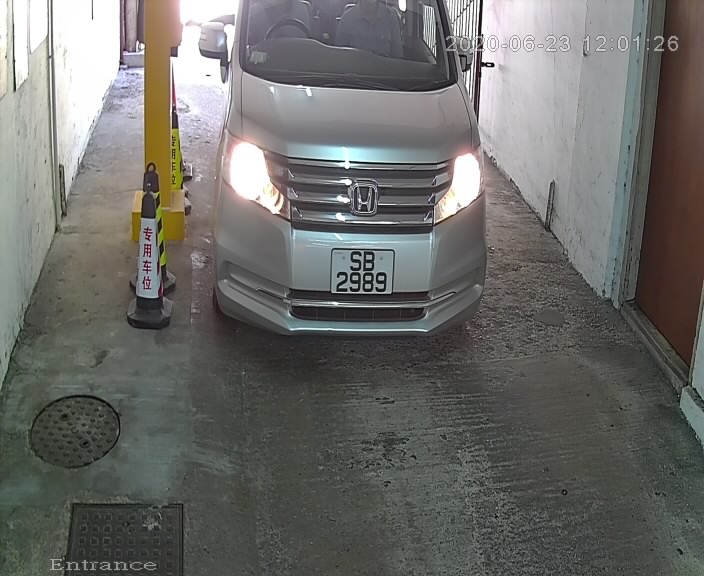privatecar: (178, 1, 536, 359)
